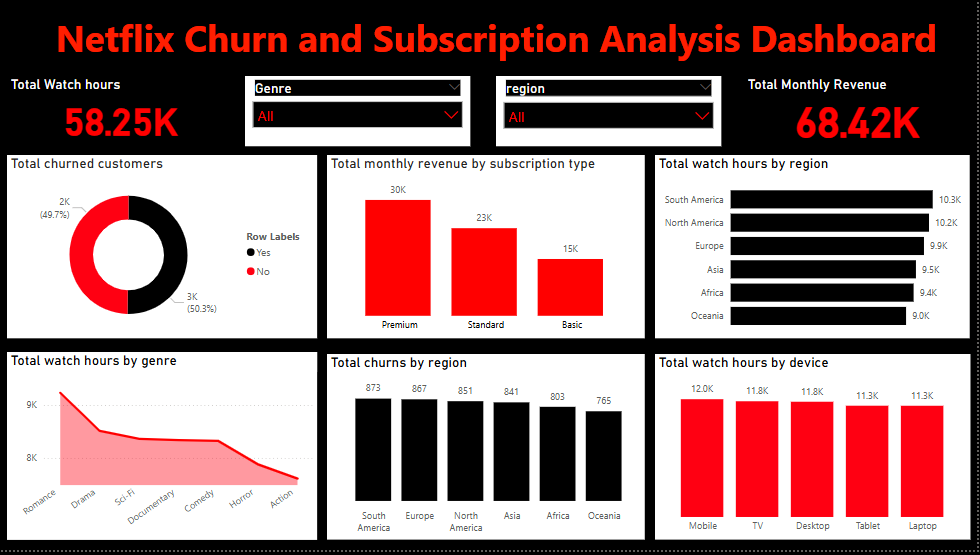

This screenshot's page, from the dashboard's own definition file:
{"tool":"powerbi","page":{"name":"Page 1","canvas":[1280,720],"ordinal":0},"visuals":[{"type":"textbox","box":[10.1,10.1,1260,79.2],"z":0},{"type":"card","title":"Total Watch hours","fields":{"Values":["Sum(netflix_customer_churn.watch_hours)"]},"box":[10.1,99,295.2,92.2],"z":1000},{"type":"card","title":"Total Monthly Revenue","fields":{"Values":["Sum(netflix_customer_churn.monthly_fee)"]},"box":[974.9,99.4,295.2,92.2],"z":2000},{"type":"slicer","fields":{"Values":["netflix_customer_churn.region"]},"box":[650.9,99.4,295.2,92.2],"z":3000},{"type":"donutChart","title":"Total churned customers","fields":{"Category":["Sheet4.Row Labels"],"Y":["Sum(Sheet4.Count of churned)"]},"box":[10.1,203,406.1,240.5],"z":4000},{"type":"columnChart","title":"Total monthly revenue by subscription type","fields":{"Y":["Sum(netflix_customer_churn.monthly_fee)"],"Category":["netflix_customer_churn.subscription_type"]},"box":[429.1,203,416.2,240.5],"z":5000},{"type":"barChart","title":"Total watch hours by region","fields":{"Category":["netflix_customer_churn.region"],"Y":["Sum(netflix_customer_churn.watch_hours)"]},"box":[858.2,203,411.8,240.5],"z":6000},{"type":"slicer","fields":{"Values":["netflix_customer_churn.favorite_genre"]},"box":[322.6,99.4,295.2,92.2],"z":7000},{"type":"areaChart","title":"Total watch hours by genre","fields":{"Category":["netflix_customer_churn.favorite_genre"],"Y":["Sum(netflix_customer_churn.watch_hours)"]},"box":[10.1,460.8,406.1,246.2],"z":8000},{"type":"columnChart","title":"Total churns by region","fields":{"Category":["netflix_customer_churn.region"],"Y":["CountNonNull(netflix_customer_churn.churned)"]},"box":[429.1,463.7,416.2,243.4],"z":9000},{"type":"columnChart","title":"Total watch hours by device","fields":{"Category":["netflix_customer_churn.device"],"Y":["Sum(netflix_customer_churn.watch_hours)"]},"box":[858.2,463.7,413.3,243.4],"z":9001}]}

Visuals, with their boxes in screenshot pixels (x1, y1, x2, y2), scaled from the page's 1280x720 canvas onto the 980x555 screenshot:
textbox: <region>8, 8, 972, 69</region>
"Total Watch hours" card: <region>8, 76, 234, 147</region>
"Total Monthly Revenue" card: <region>746, 77, 972, 148</region>
slicer - netflix_customer_churn.region: <region>498, 77, 724, 148</region>
"Total churned customers" donutChart: <region>8, 156, 319, 342</region>
"Total monthly revenue by subscription type" columnChart: <region>329, 156, 647, 342</region>
"Total watch hours by region" barChart: <region>657, 156, 972, 342</region>
slicer - netflix_customer_churn.favorite_genre: <region>247, 77, 473, 148</region>
"Total watch hours by genre" areaChart: <region>8, 355, 319, 545</region>
"Total churns by region" columnChart: <region>329, 357, 647, 545</region>
"Total watch hours by device" columnChart: <region>657, 357, 973, 545</region>
